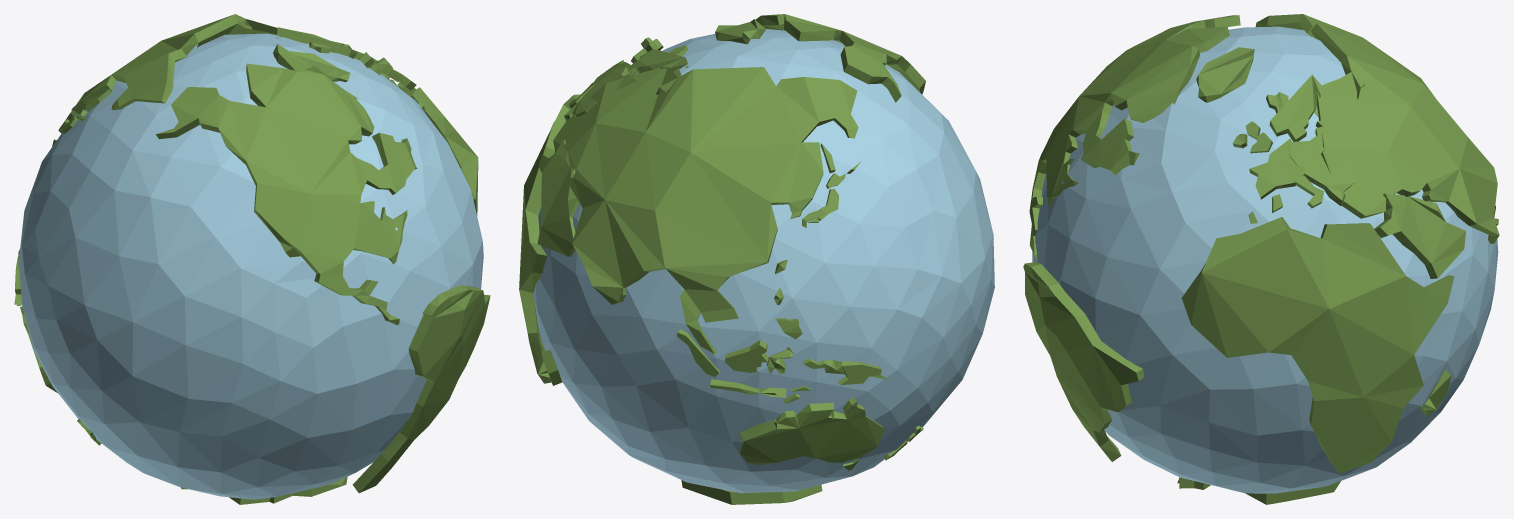
File: earth.dae
3 views of the same model, side by side, from view 1: azimuth 30°, elevation 25°; view 2: azimuth 150°, elevation 25°; view 3: azimuth 270°, elevation 25° (orthographic).
Visible parts, largest first — view 1: Empty_Mesh, Empty_Mesh_1; view 2: Empty_Mesh, Empty_Mesh_1; view 3: Empty_Mesh_1, Empty_Mesh.
Boxes of the visible parts, left/top/right/bottom form: Empty_Mesh: left=18, top=33, right=483, bottom=499; Empty_Mesh_1: left=14, top=14, right=490, bottom=504; Empty_Mesh: left=533, top=29, right=994, bottom=493; Empty_Mesh_1: left=519, top=14, right=925, bottom=504; Empty_Mesh_1: left=1023, top=14, right=1499, bottom=504; Empty_Mesh: left=1032, top=26, right=1498, bottom=493.
Bounding box in the file's own units: 10.69 × 11.02 × 10.71.
